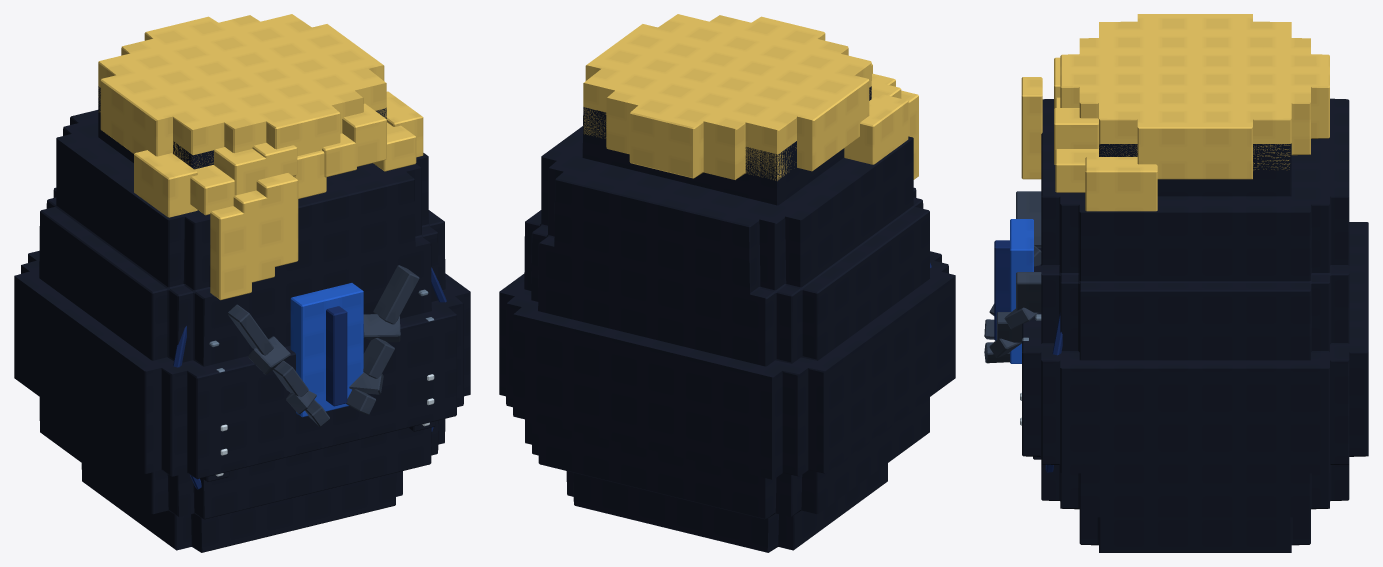
The model's file is Sanji_Egg.fbx.
3 renders of one model, left to right at view 1: azimuth 30°, elevation 25°; view 2: azimuth 150°, elevation 25°; view 3: azimuth 270°, elevation 25°, orthographic. The views are drawn at different scales.
Visible parts, largest first — view 1: Sanji_Egg; view 2: Sanji_Egg; view 3: Sanji_Egg.
Part boxes in pixels (x1=…): Sanji_Egg: x1=14, y1=14, x2=470, y2=552; Sanji_Egg: x1=499, y1=14, x2=955, y2=552; Sanji_Egg: x1=984, y1=14, x2=1368, y2=552.
Size of the model in its own units: 262 by 320 by 261.
Materials: 7 (7 with a texture image).
